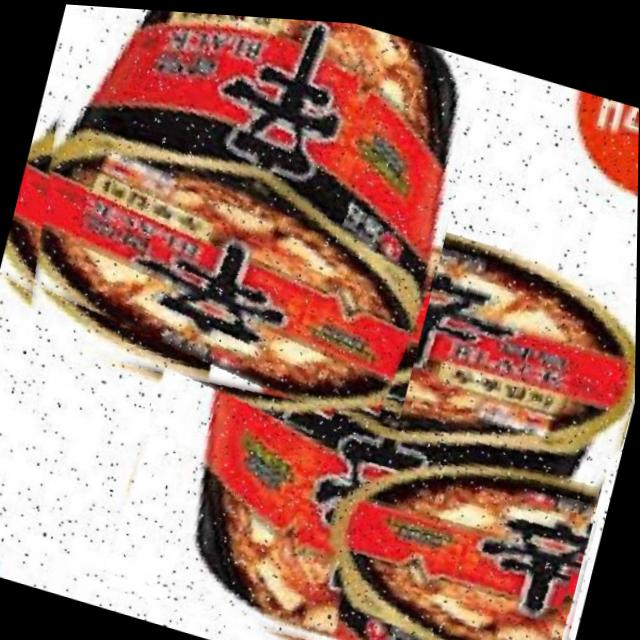Miscellaneous: (102, 153, 638, 640), (0, 0, 488, 453)
